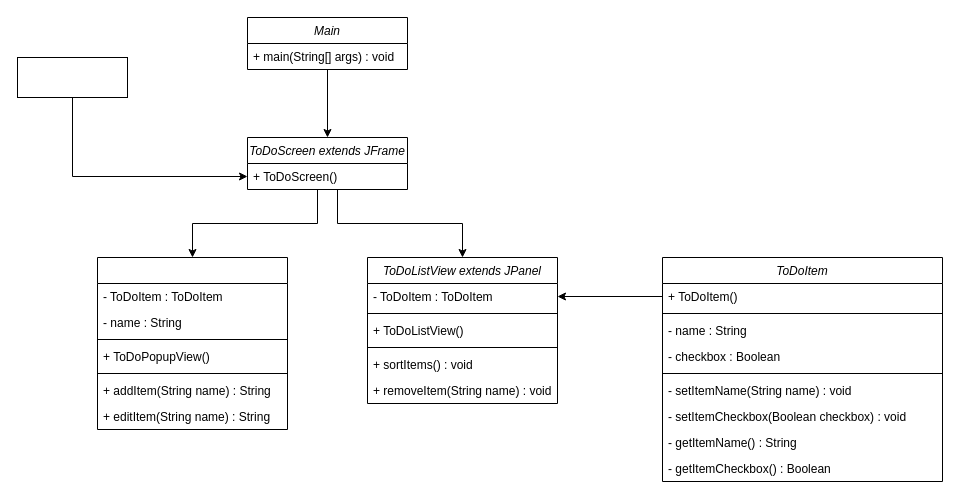
Some shapes in this 960 by 502 pixel diagram are drawn without their labels. The box of each missing label's shape, as (x1, y1, x2, y2) in pixels:
Database: (16, 56, 128, 98)
ToDoPopupView extends JFrame: (96, 256, 288, 430)
